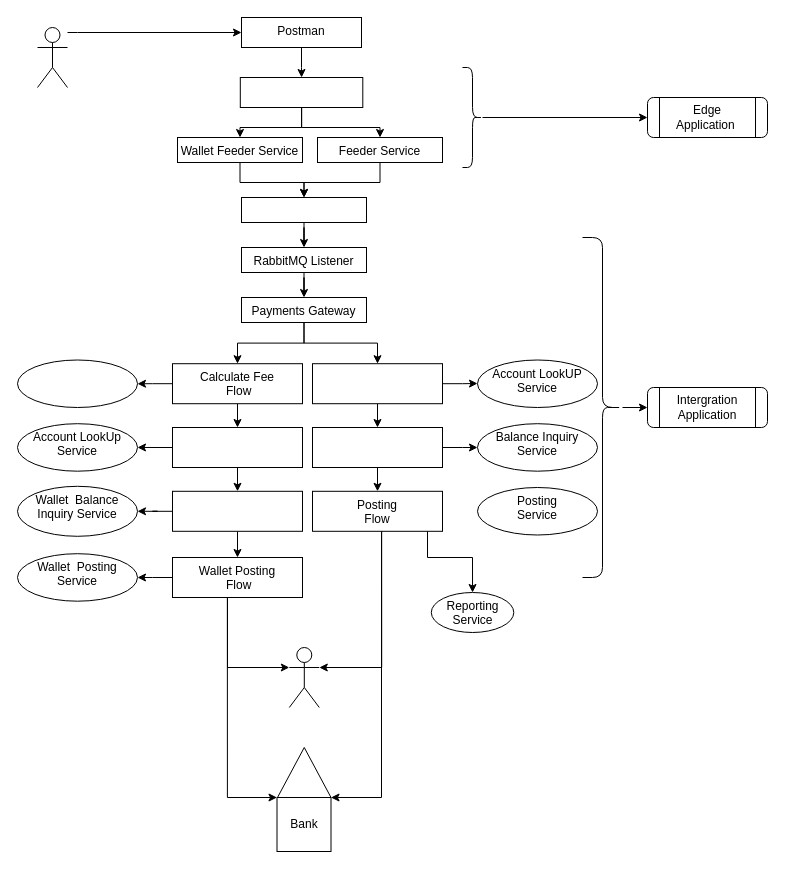
Some shapes in this 785 by 869 pixel diagram are drawn without their labels. The centre of each missing label's shape, as x and y in pixels:
"Account LookUp Flow" belongs at point 377,383.
"Balance Inquiry Flow" belongs at point 377,447.
"Calculate Fee Service" belongs at point 77,383.
"Creditor" belongs at point 303,677.
"Debtor" belongs at point 52,57.
"Payment Controller" belongs at point 301,92.
"RabbitMQ / Queue" belongs at point 303,209.
"Wallet Accounnt LookUp Flow" belongs at point 237,447.
"Wallet Balance Inquiry Flow" belongs at point 237,510.
